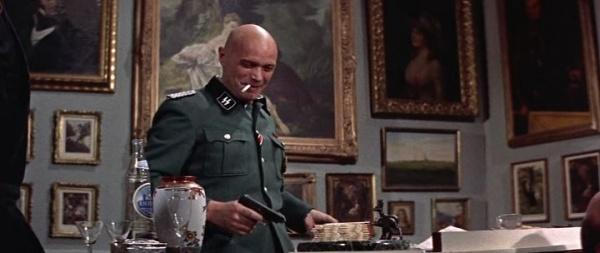Gun: (237, 192, 286, 224)
